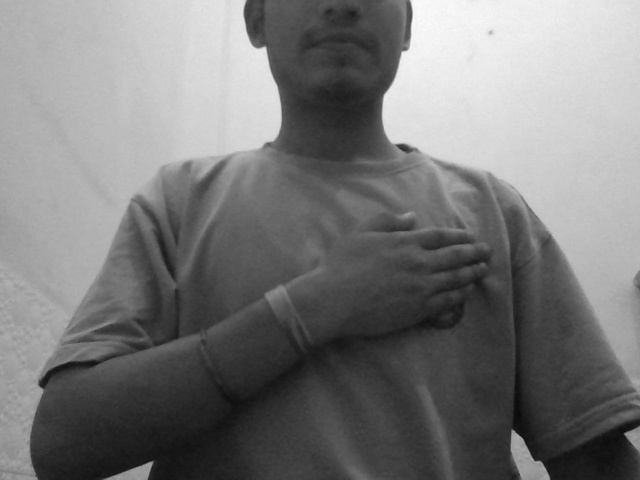Sorry: (301, 199, 507, 364)
